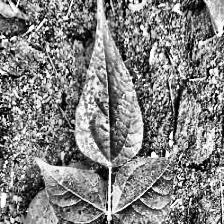ALS: (72, 1, 141, 158), (42, 165, 102, 224), (117, 163, 165, 224)
